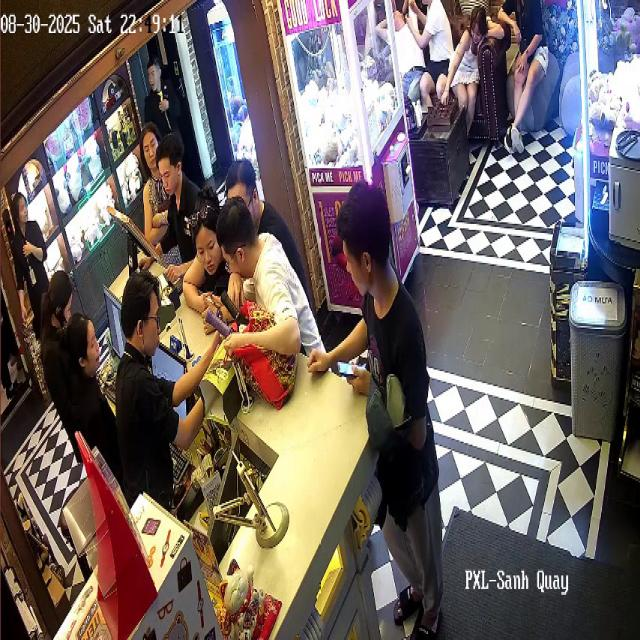khach: (340, 197, 452, 640), (220, 221, 309, 362), (456, 12, 500, 165), (503, 0, 539, 161), (182, 217, 237, 309), (231, 153, 288, 240), (388, 5, 431, 120), (422, 0, 460, 96), (134, 126, 167, 228)
nhan vien: (120, 280, 206, 482), (67, 313, 112, 448), (159, 147, 209, 262), (14, 183, 53, 326), (40, 258, 66, 397), (145, 65, 193, 123)
